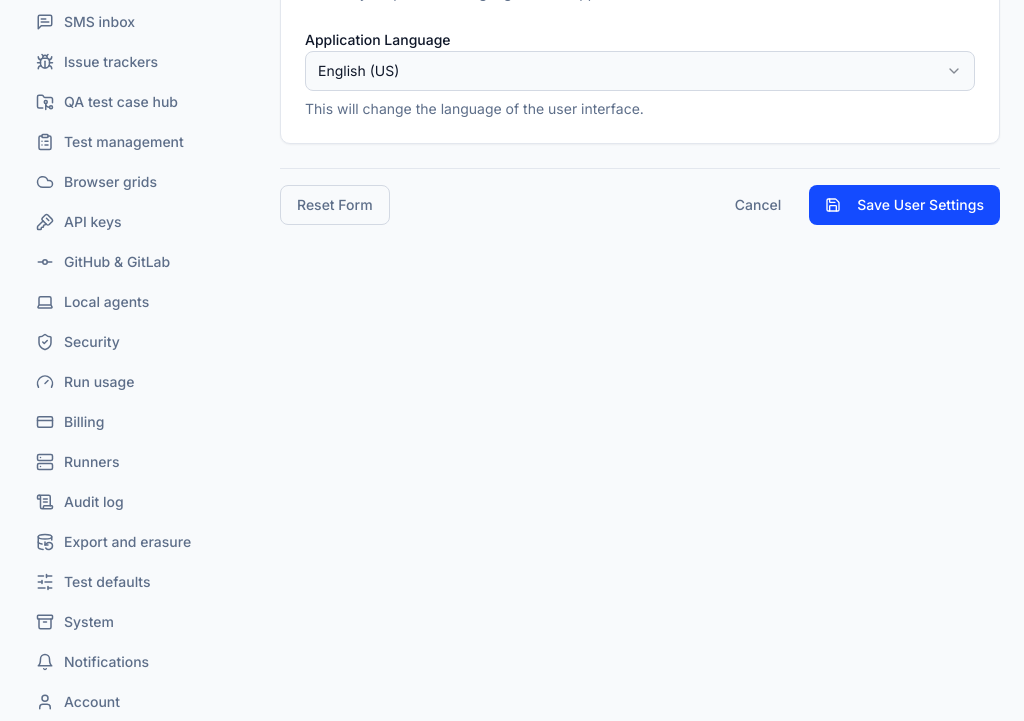
Scenario: SettingsPage - System › lets an installation admin change the log settings
(page scrolled)
Click the button "System": (136, 622) [24,604,248,640]
(page scrolled)
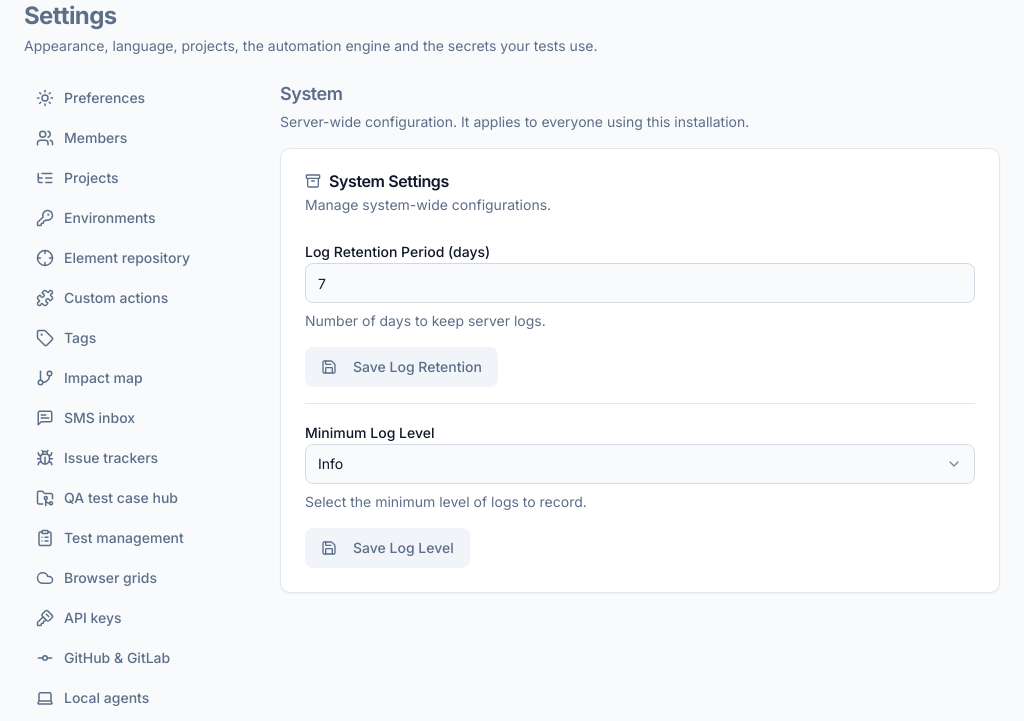
Check: the number field labelled "Log Retention Period (days)" is enabled, box [305,263,975,303]
